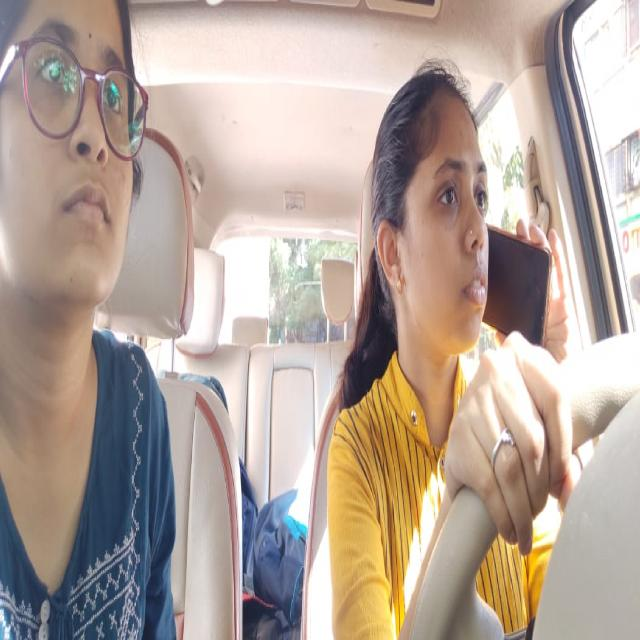mobile: (487, 226, 553, 357)
person: (0, 0, 146, 325), (372, 59, 488, 354)
